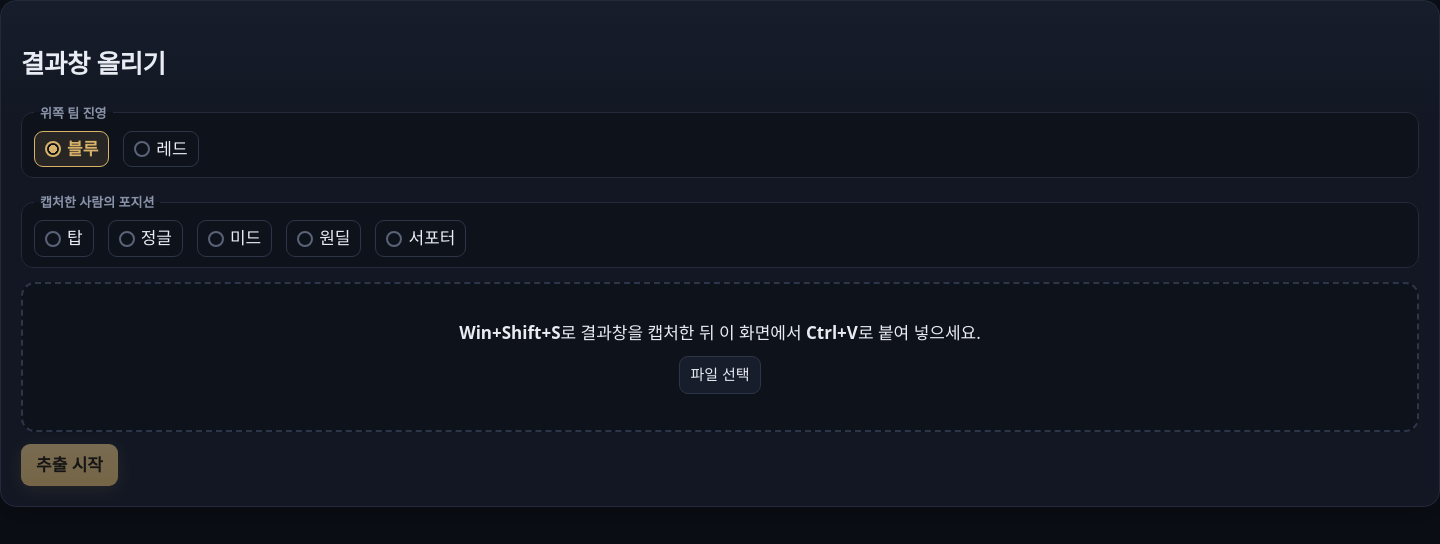
Test case: UploadStep › 형식이 맞지 않는 이미지는 거절 문구를 보여 주고 시작하지 않는다
Click the radio button labelled "원딜".
click(305, 239)  # box [297,231,313,247]
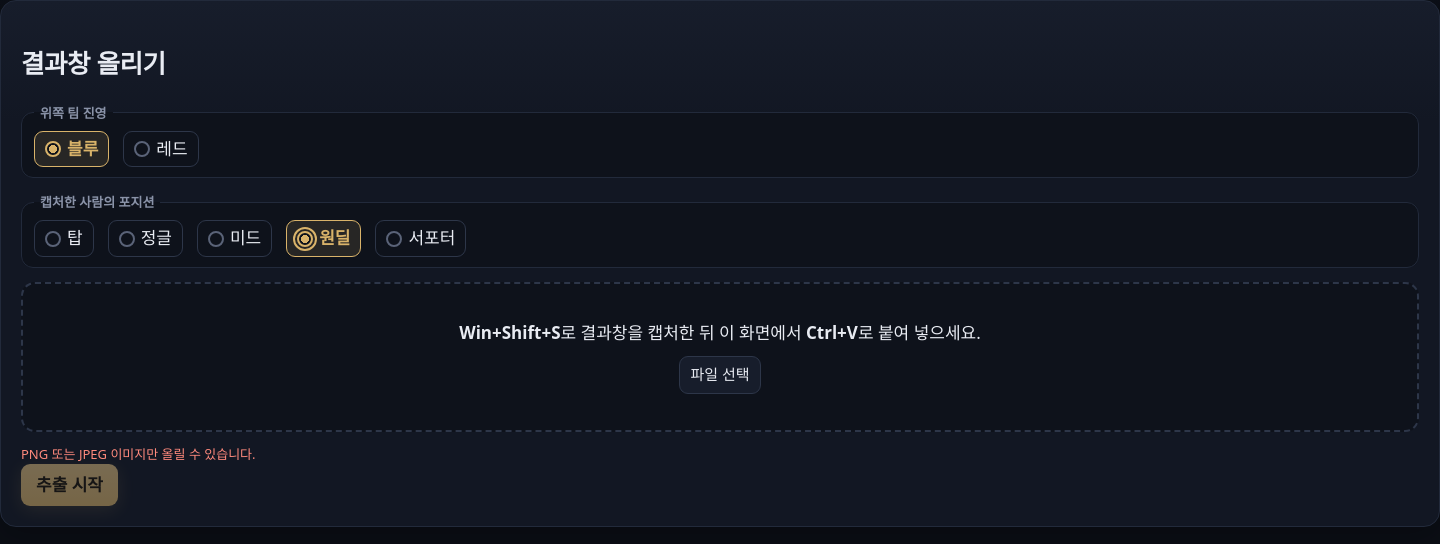
Check: the message shows "PNG 또는 JPEG", box [21,445,256,463]
